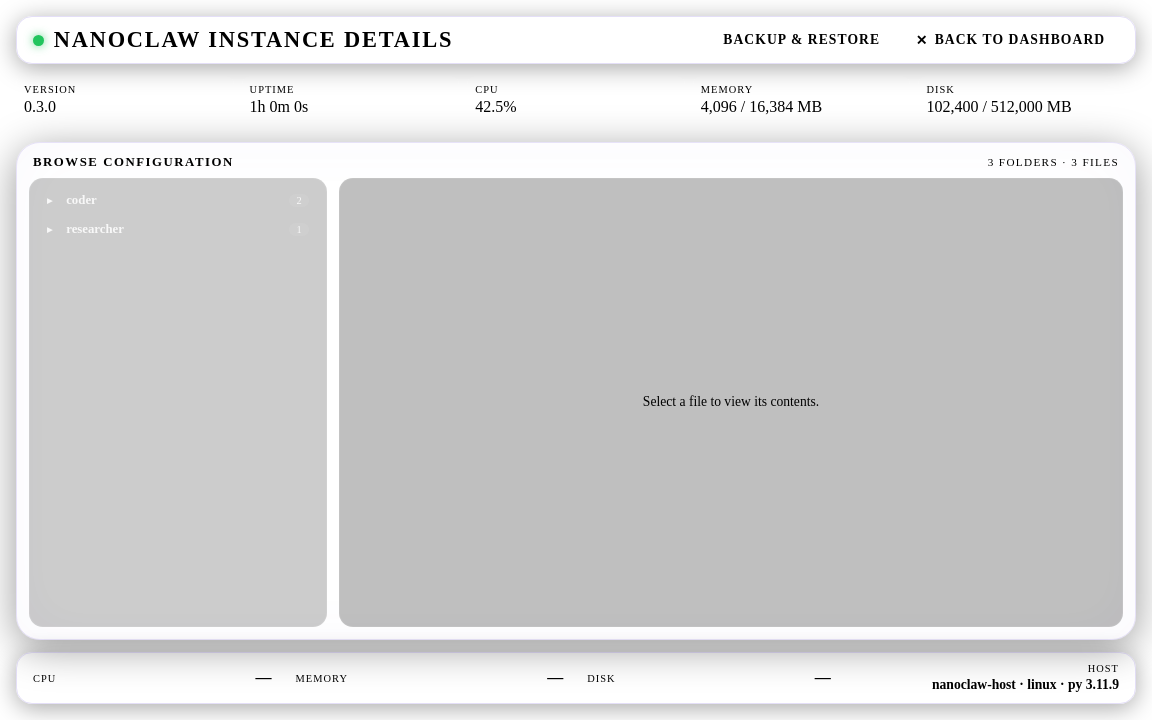
Scenario: InstanceDetails › shows folders collapsed and expands to reveal files
Expected: the text "instructions.prepend.md" is not shown
What coordinates should you click on to do the following:
click the button "▸ coder 2"
I would click on:
 (81, 200)
Its box is left=38, top=187, right=318, bottom=214.
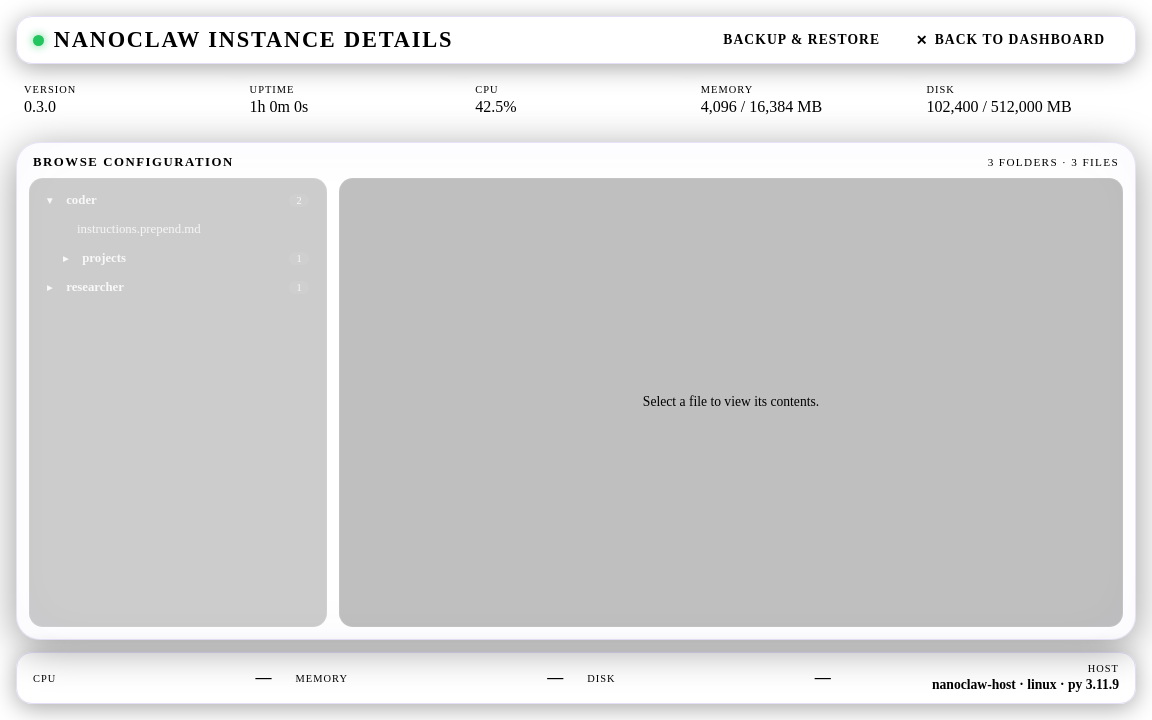
Expected: the button "instructions.prepend.md" is shown, left=38, top=216, right=318, bottom=243
Expected: the button "▸ projects 1" is shown, left=38, top=245, right=318, bottom=272
